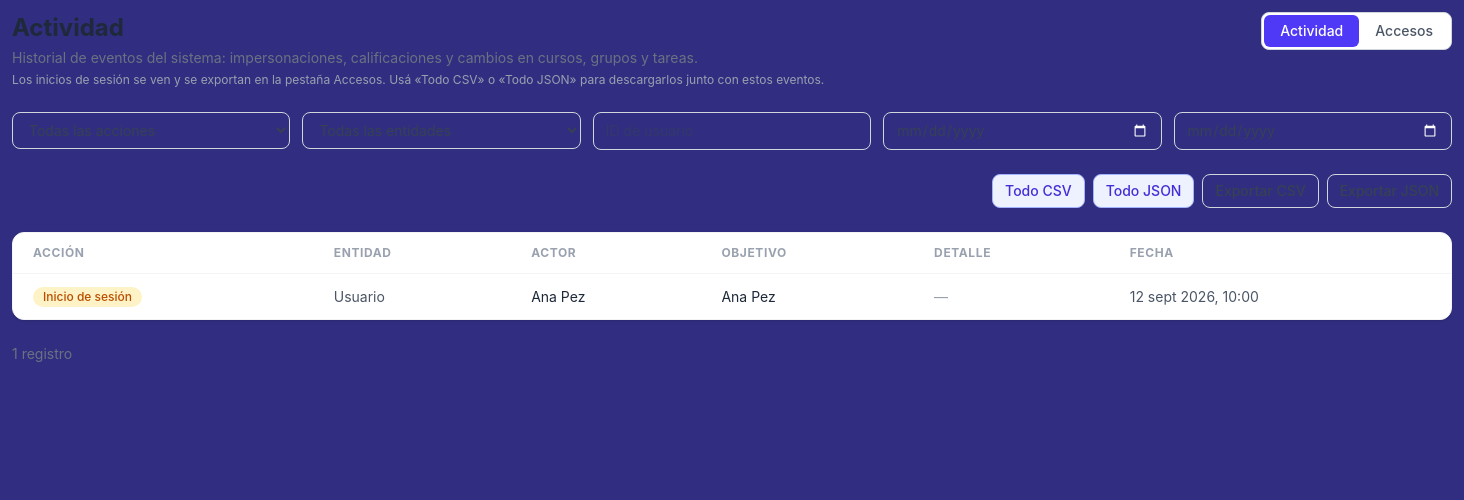
Test case: AdminActivityPage › muestra la tabla de accesos registrados en la pestana Accesos
The width and height of the screenshot is (1464, 500).
Click the button "Accesos" at (1404, 31), box [1359,15,1449,47]
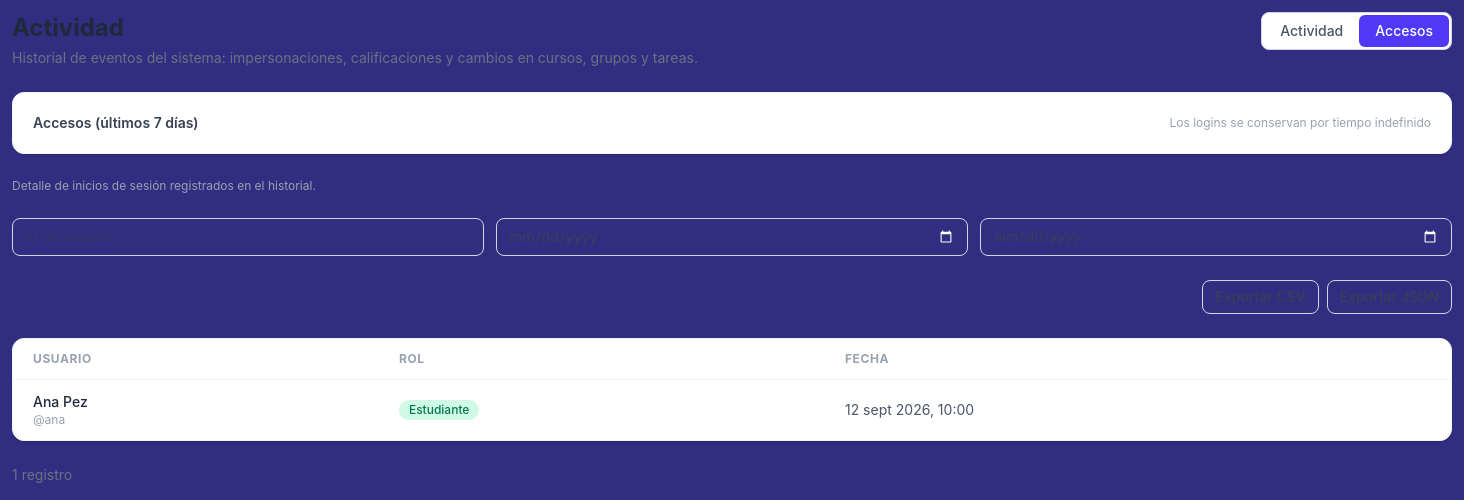
Expected: the text "Ana Pez" is shown, [33,393,88,410]
Result: the text "@ana" is shown at [33,412,65,427]
Result: the text "Estudiante" is shown at [399,400,479,420]
